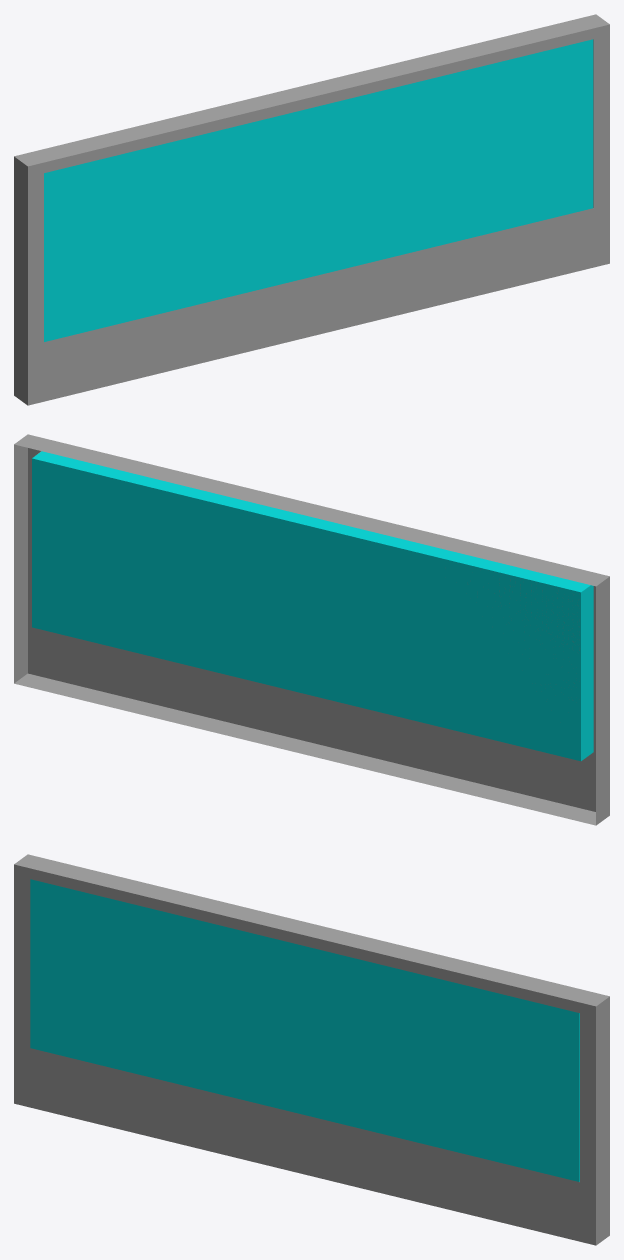
File: weaponRack.fbx
The picture shows the model from 3 angles, top to bottom: view 1: azimuth 30°, elevation 25°; view 2: azimuth 150°, elevation 25°; view 3: azimuth 330°, elevation 25°; orthographic projection.
Visible parts, largest first — view 1: pCube6, pCube5; view 2: pCube6, pCube5; view 3: pCube6, pCube5.
Part boxes in pixels (box(x1,y1,x2,y2)): pCube6: box(44, 39, 593, 341); pCube5: box(14, 14, 609, 405); pCube6: box(32, 451, 593, 761); pCube5: box(14, 434, 609, 825); pCube6: box(30, 879, 579, 1181); pCube5: box(14, 854, 609, 1245).
Bounding box in the file's own units: 6.65 × 2.61 × 0.2737.
